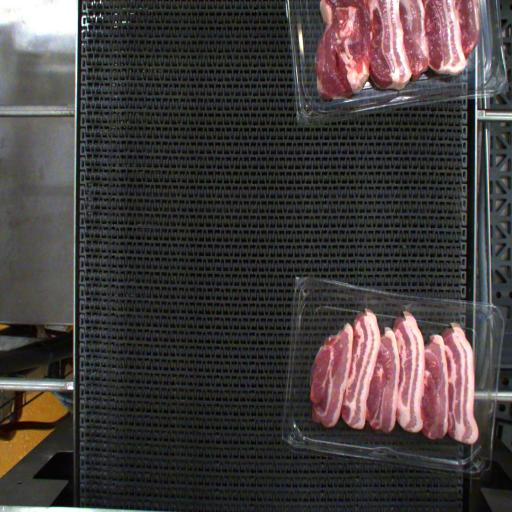packaging-error: (400, 303, 412, 315)
